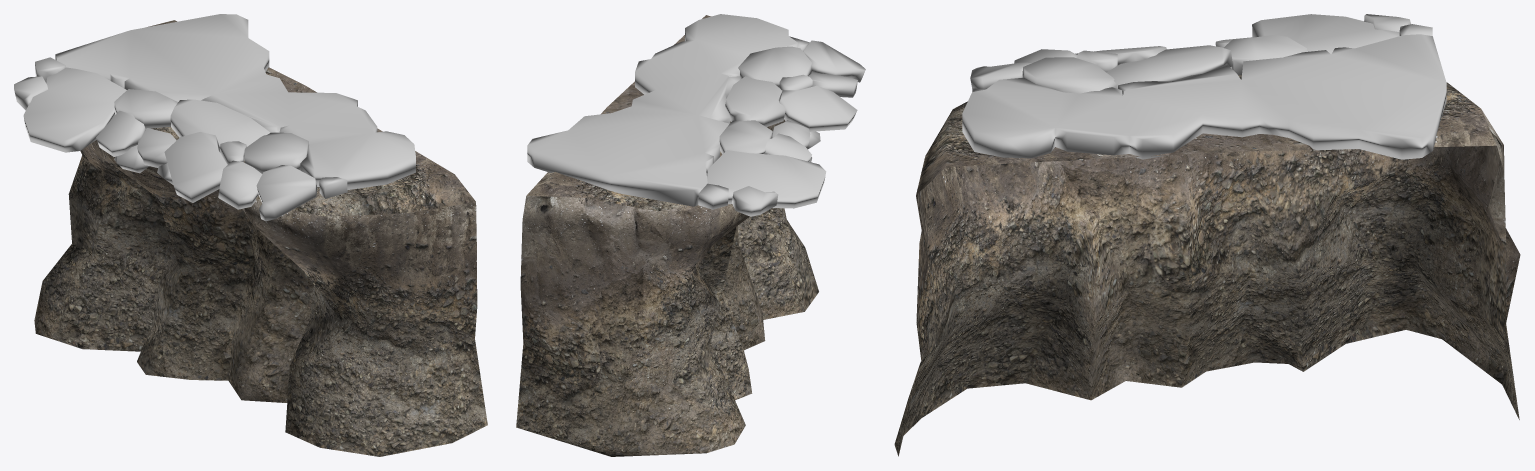
The model's file is Road_end1_LOD1.fbx.
3 views of the same model, side by side, from view 1: azimuth 30°, elevation 25°; view 2: azimuth 150°, elevation 25°; view 3: azimuth 270°, elevation 25° (orthographic). The views are drawn at different scales.
Visible parts, largest first — view 1: polySurface172; view 2: polySurface172; view 3: polySurface172.
Part boxes in pixels (x1,y1,x2,y2): polySurface172: (14, 14, 487, 456); polySurface172: (516, 14, 865, 456); polySurface172: (894, 14, 1520, 456).
Size of the model in its own units: 4.23 by 3.94 by 6.8.
